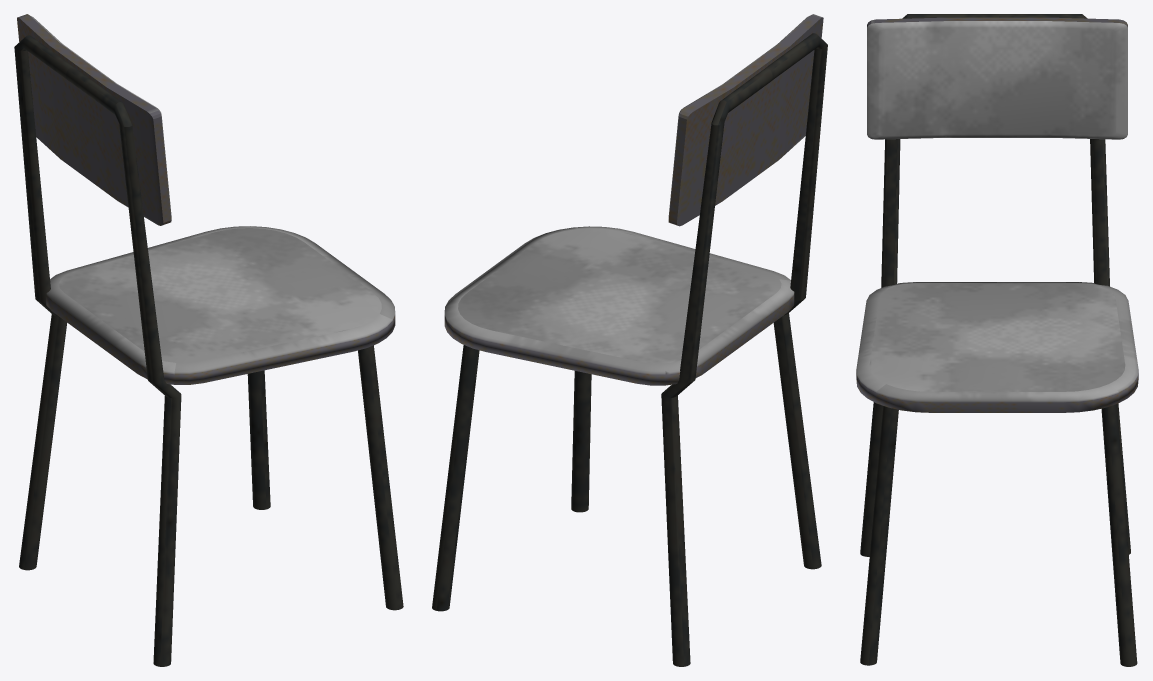
The model's file is chair.fbx.
3 views of the same model, side by side, from view 1: azimuth 30°, elevation 25°; view 2: azimuth 150°, elevation 25°; view 3: azimuth 270°, elevation 25° (orthographic). The views are drawn at different scales.
Parts seen in each view (by area): view 1: main, frame; view 2: main, frame; view 3: main, frame.
Boxes of the visible parts, x1=… form: main: x1=17, y1=14, x2=395, y2=384; frame: x1=14, y1=35, x2=403, y2=666; main: x1=444, y1=14, x2=823, y2=385; frame: x1=432, y1=33, x2=827, y2=666; main: x1=856, y1=17, x2=1138, y2=412; frame: x1=860, y1=14, x2=1137, y2=666.
Size of the model in its own units: 111 by 208 by 100.
